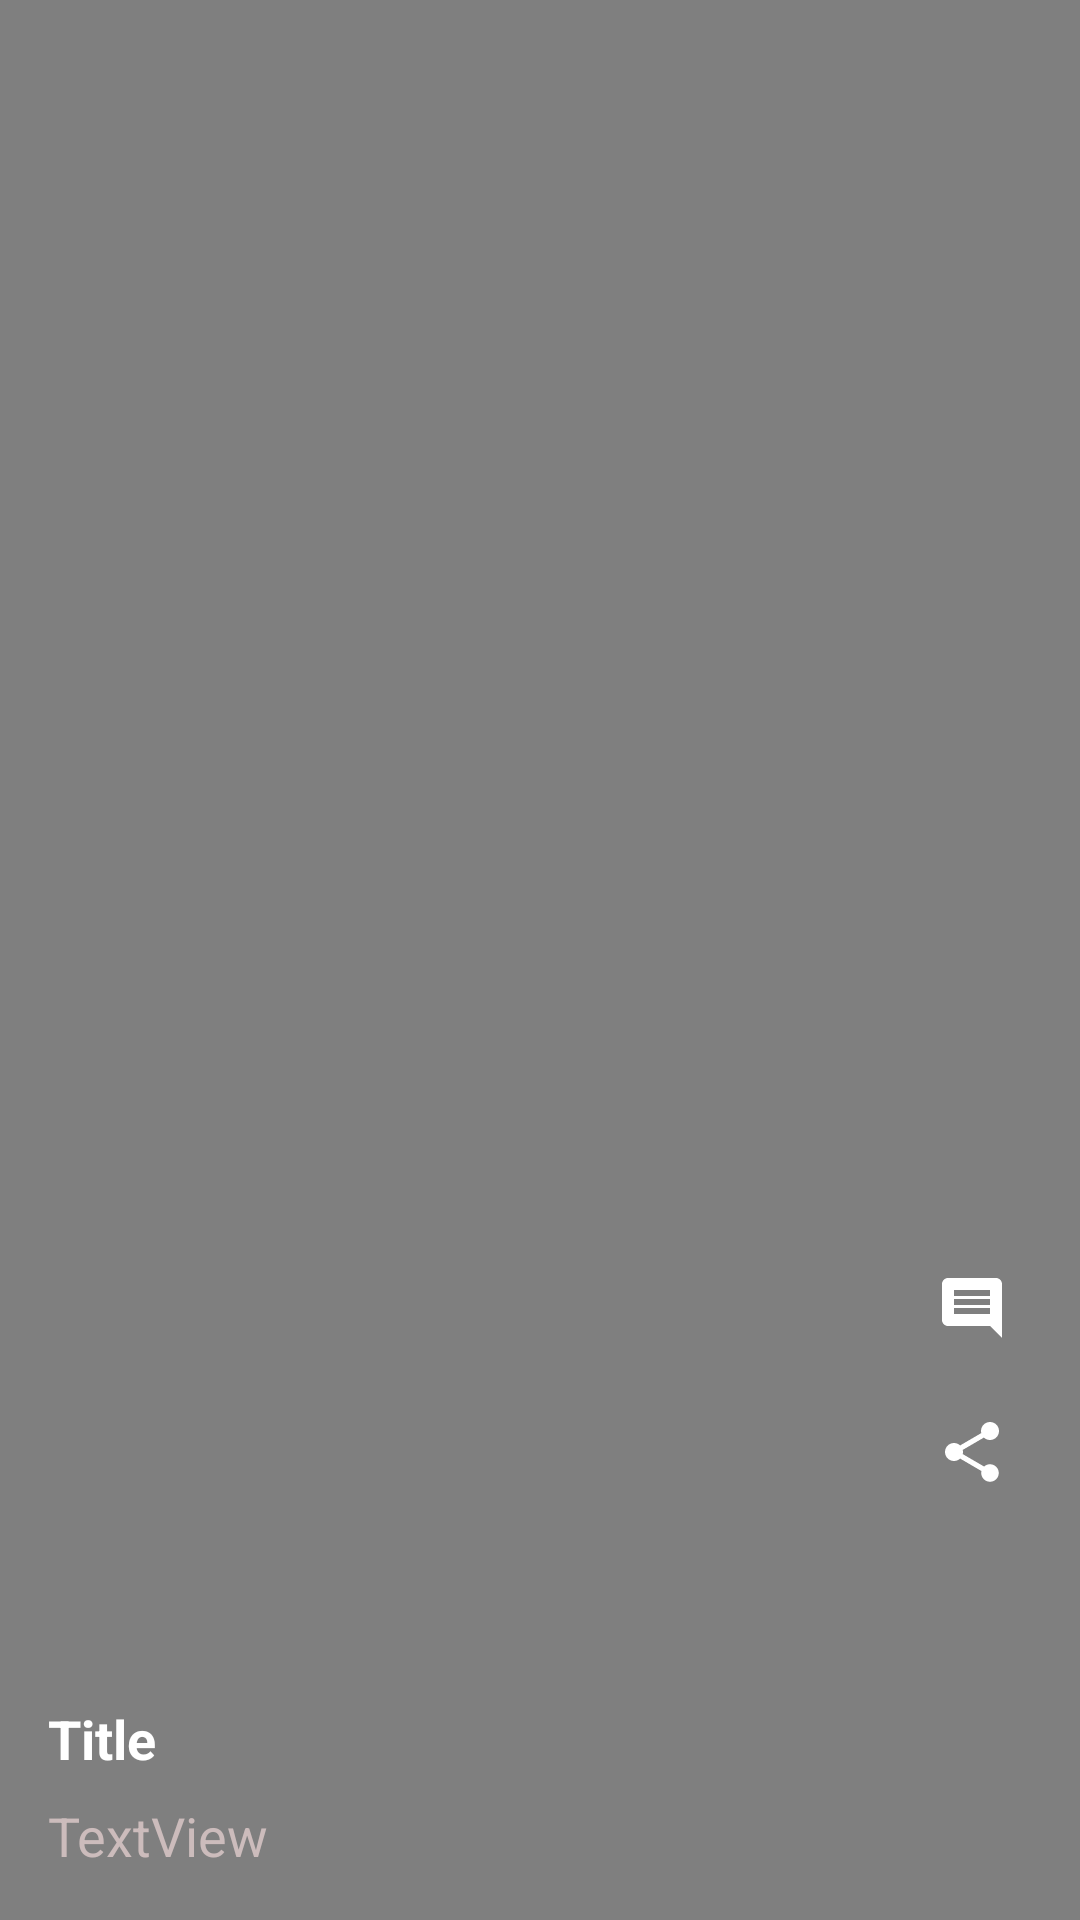

Where to tap for icons on this 1080 × 1920 app screen, as (x,y):
comment: (972,1308)
share: (972,1452)
